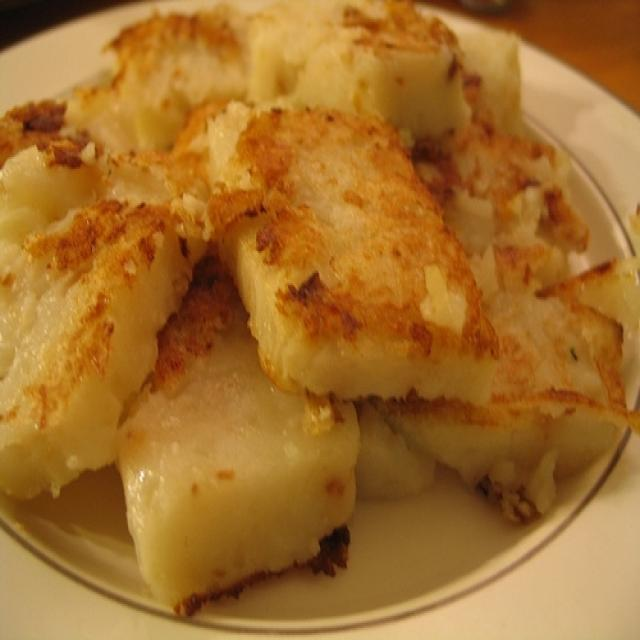蛋糕甜品: (32, 26, 608, 578)
